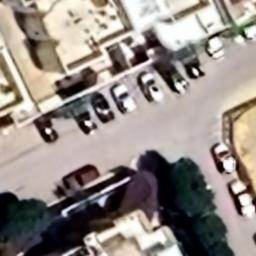SUV: (60, 163, 102, 191), (210, 139, 238, 178), (136, 69, 164, 106), (108, 83, 138, 117)
sedan: (156, 56, 191, 98), (69, 102, 101, 136), (30, 110, 62, 144), (85, 93, 115, 124)
van: (227, 180, 256, 218), (178, 47, 206, 80), (203, 33, 227, 64)
